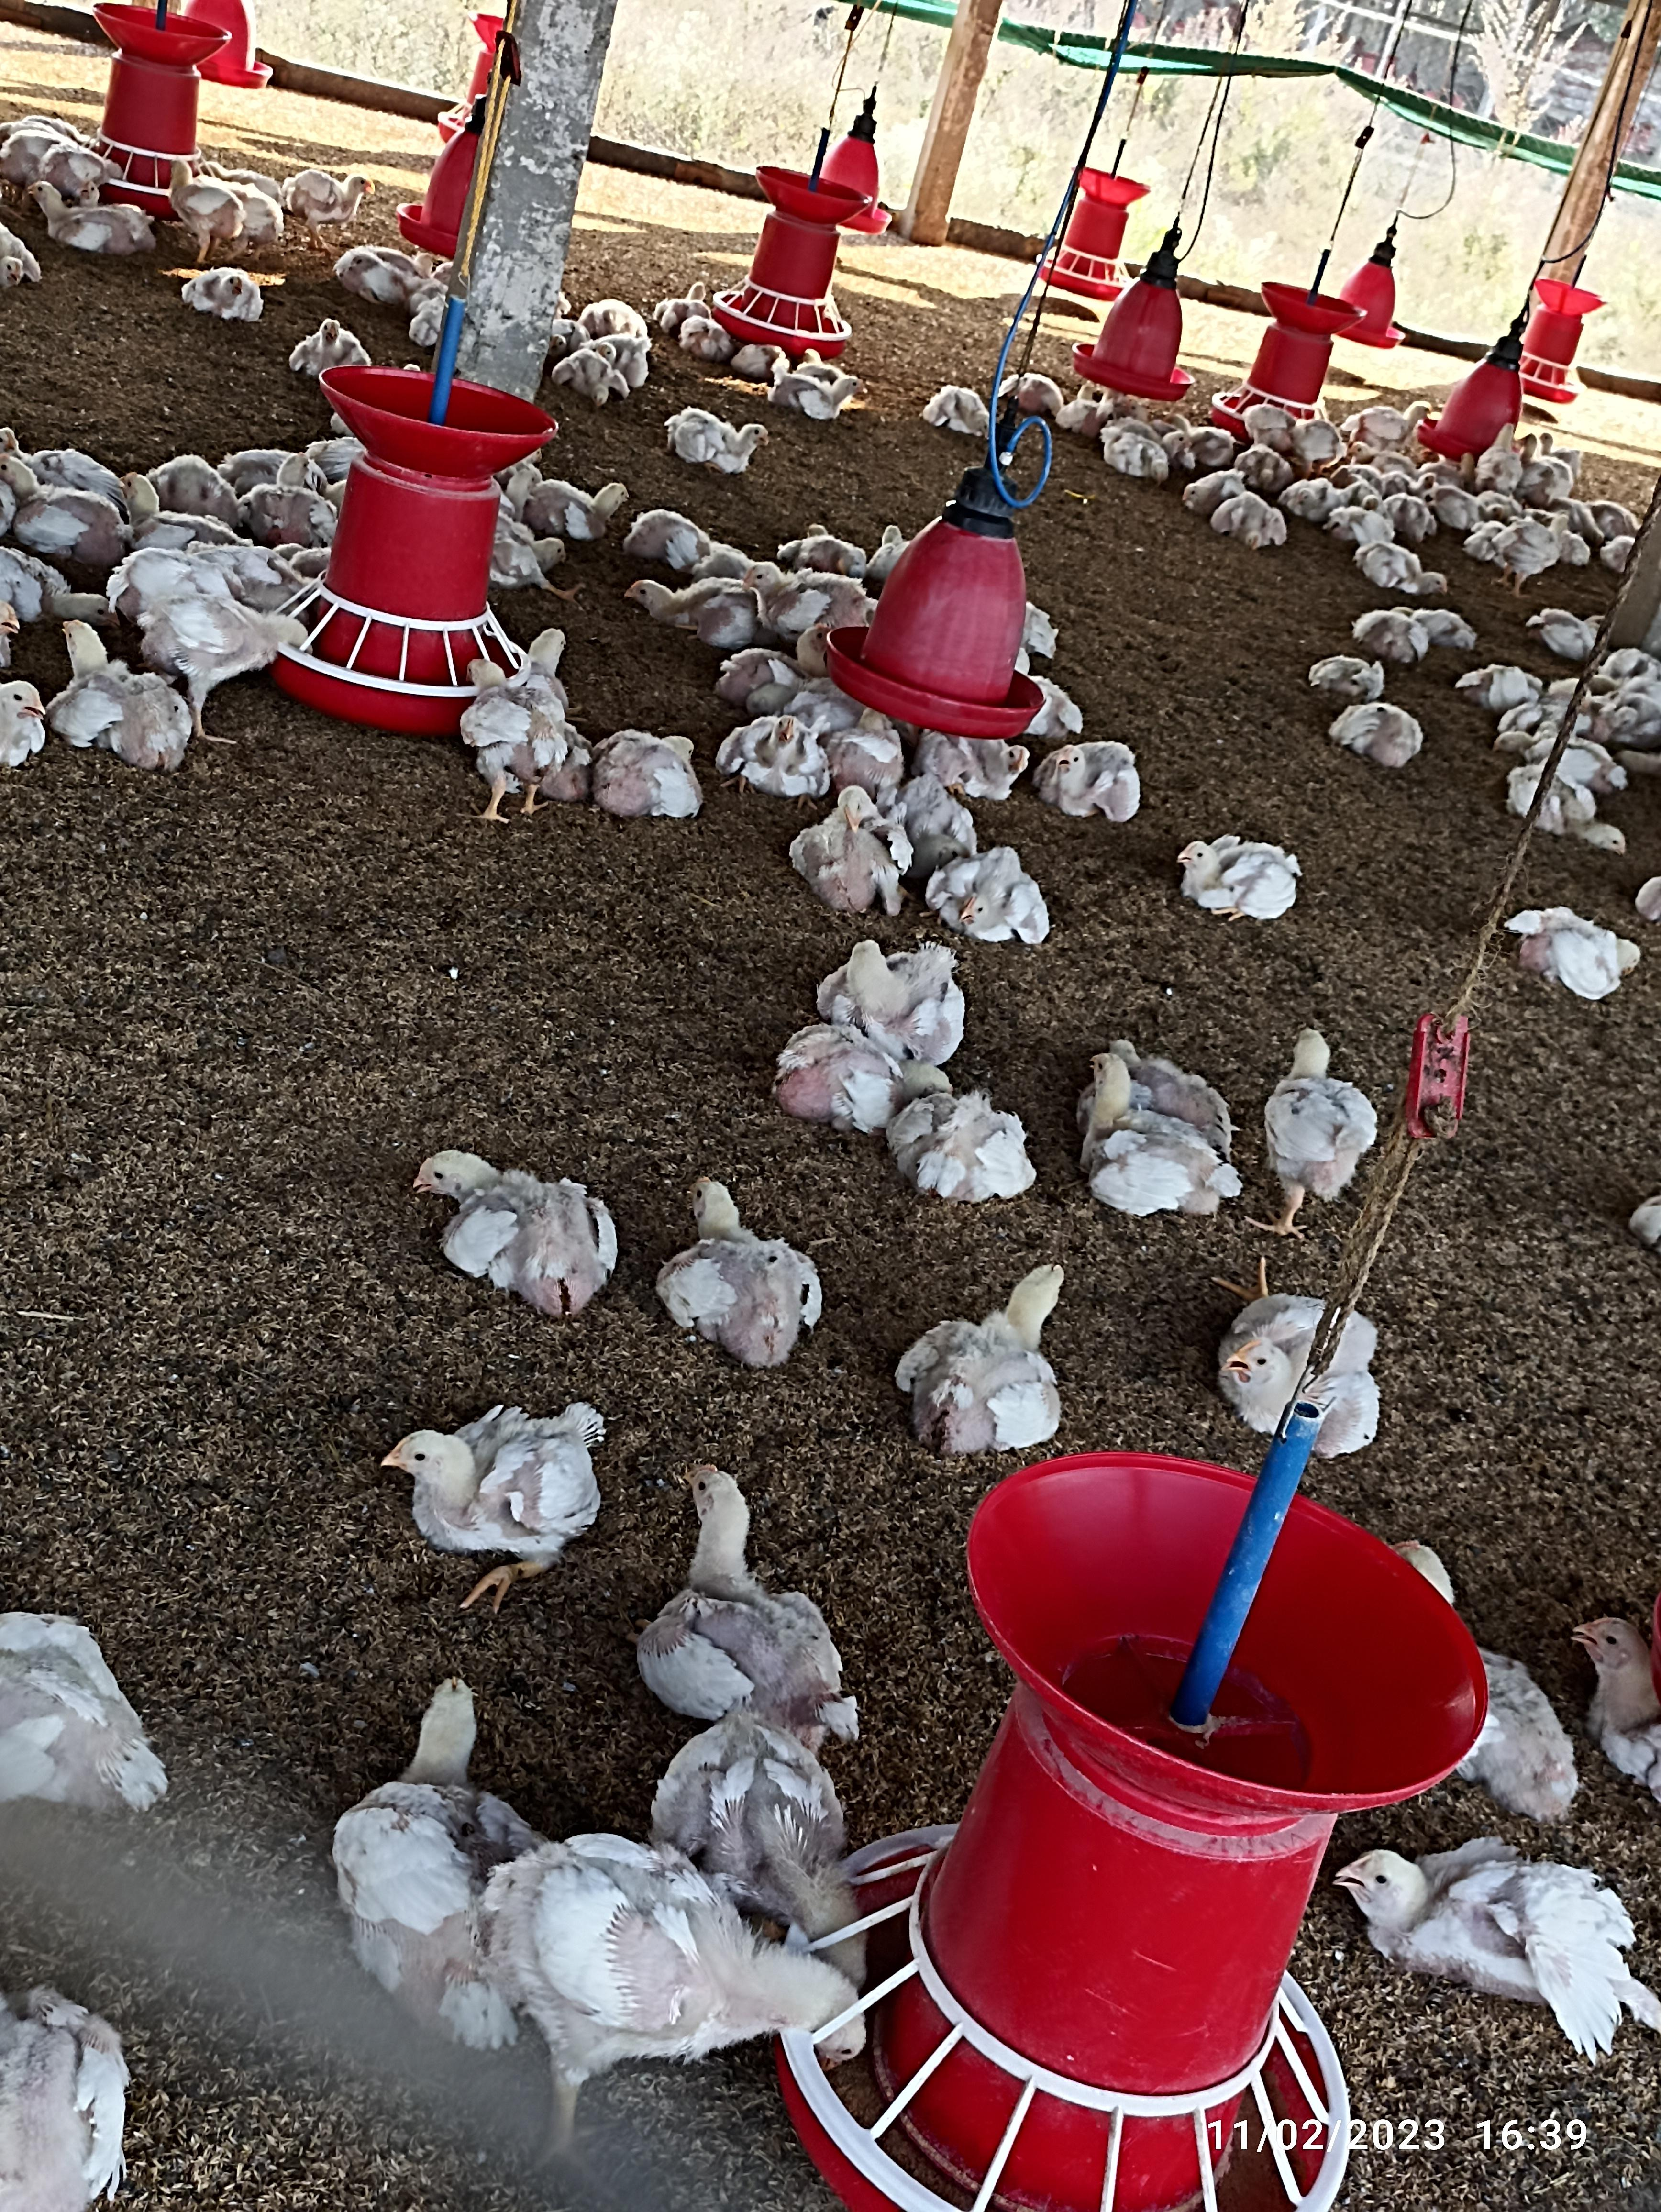Pollos: (504, 1825, 876, 2100), (1347, 1833, 1661, 2064), (342, 1685, 508, 2024), (414, 1127, 630, 1322), (919, 1237, 1104, 1464), (689, 1457, 848, 1703), (377, 1413, 630, 1565), (666, 1160, 822, 1373), (1223, 1272, 1371, 1467), (124, 536, 305, 675), (33, 614, 197, 766), (464, 647, 598, 816), (1274, 1022, 1382, 1232), (822, 930, 974, 1066), (1111, 1052, 1227, 1211), (892, 1089, 1047, 1200), (1516, 897, 1644, 1015), (612, 570, 775, 654), (1172, 816, 1300, 921), (937, 853, 1064, 958), (595, 722, 714, 816), (822, 785, 902, 914), (728, 698, 829, 789), (522, 462, 630, 546), (656, 398, 775, 473), (1321, 691, 1418, 776), (171, 256, 269, 333), (937, 734, 1024, 806), (1068, 741, 1148, 809)
